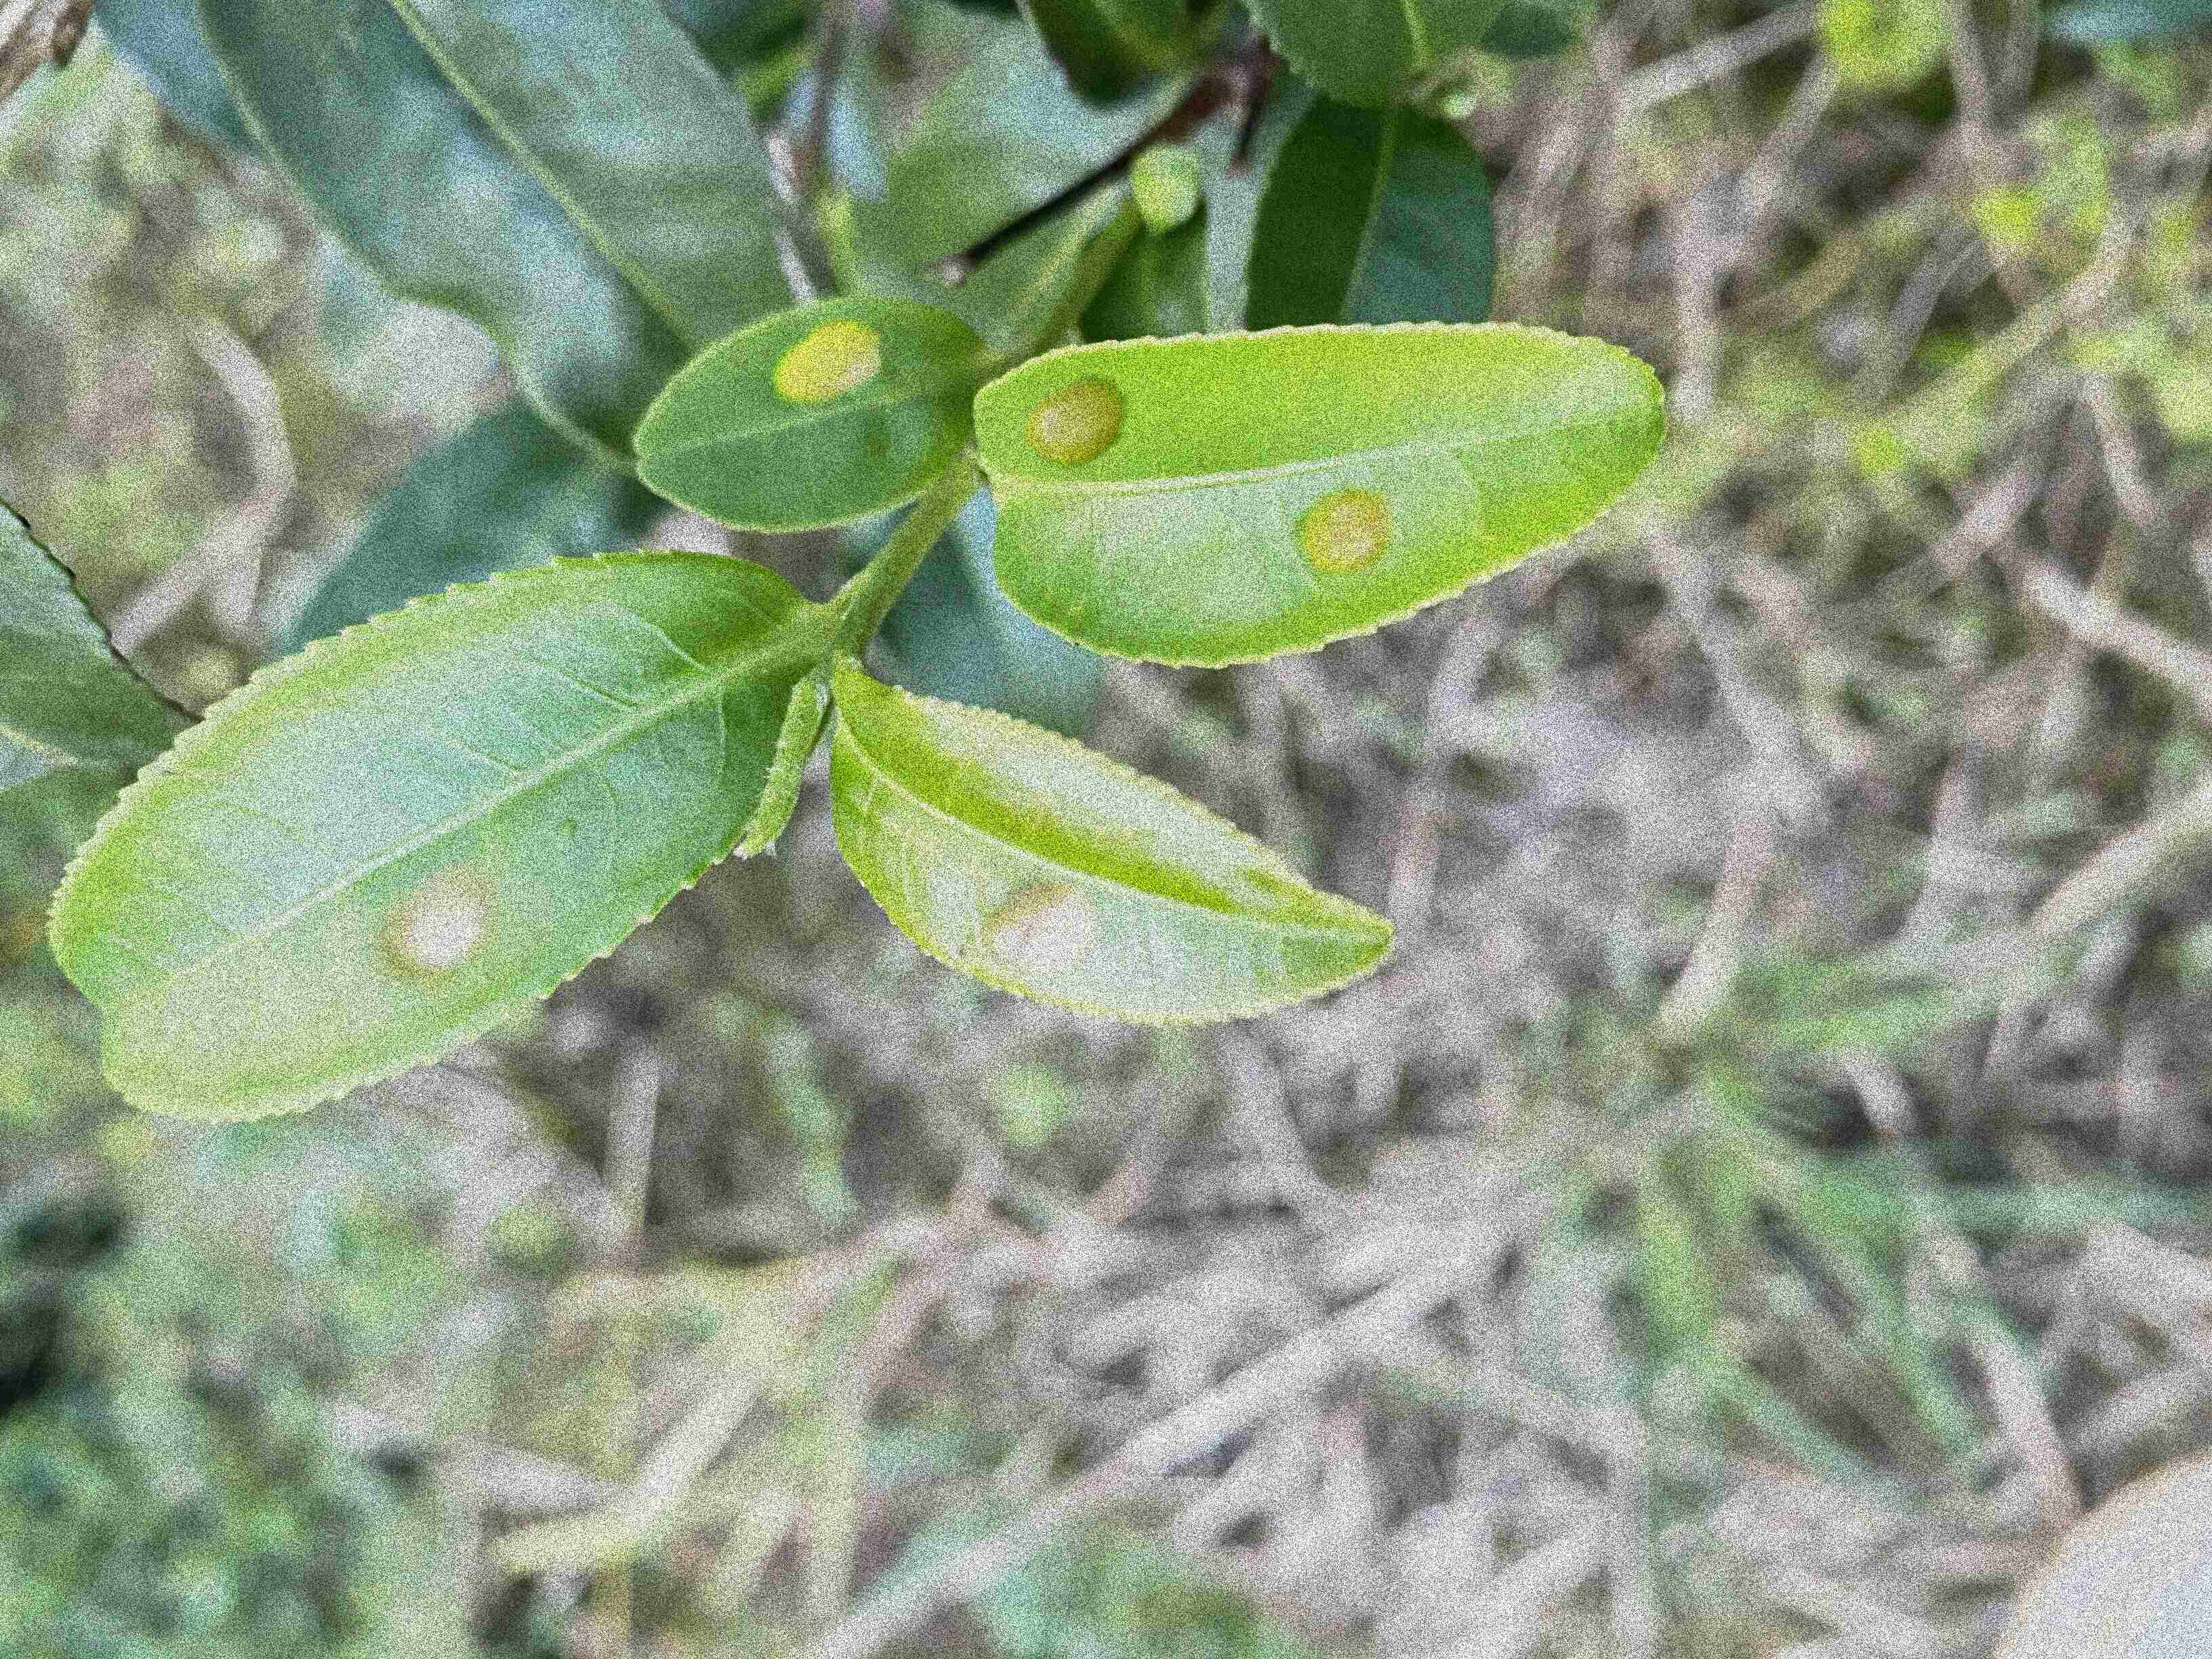chabing_high: (974, 321, 1674, 671)
chabing_low: (45, 545, 815, 1124), (829, 671, 1397, 1025), (631, 295, 989, 533)
